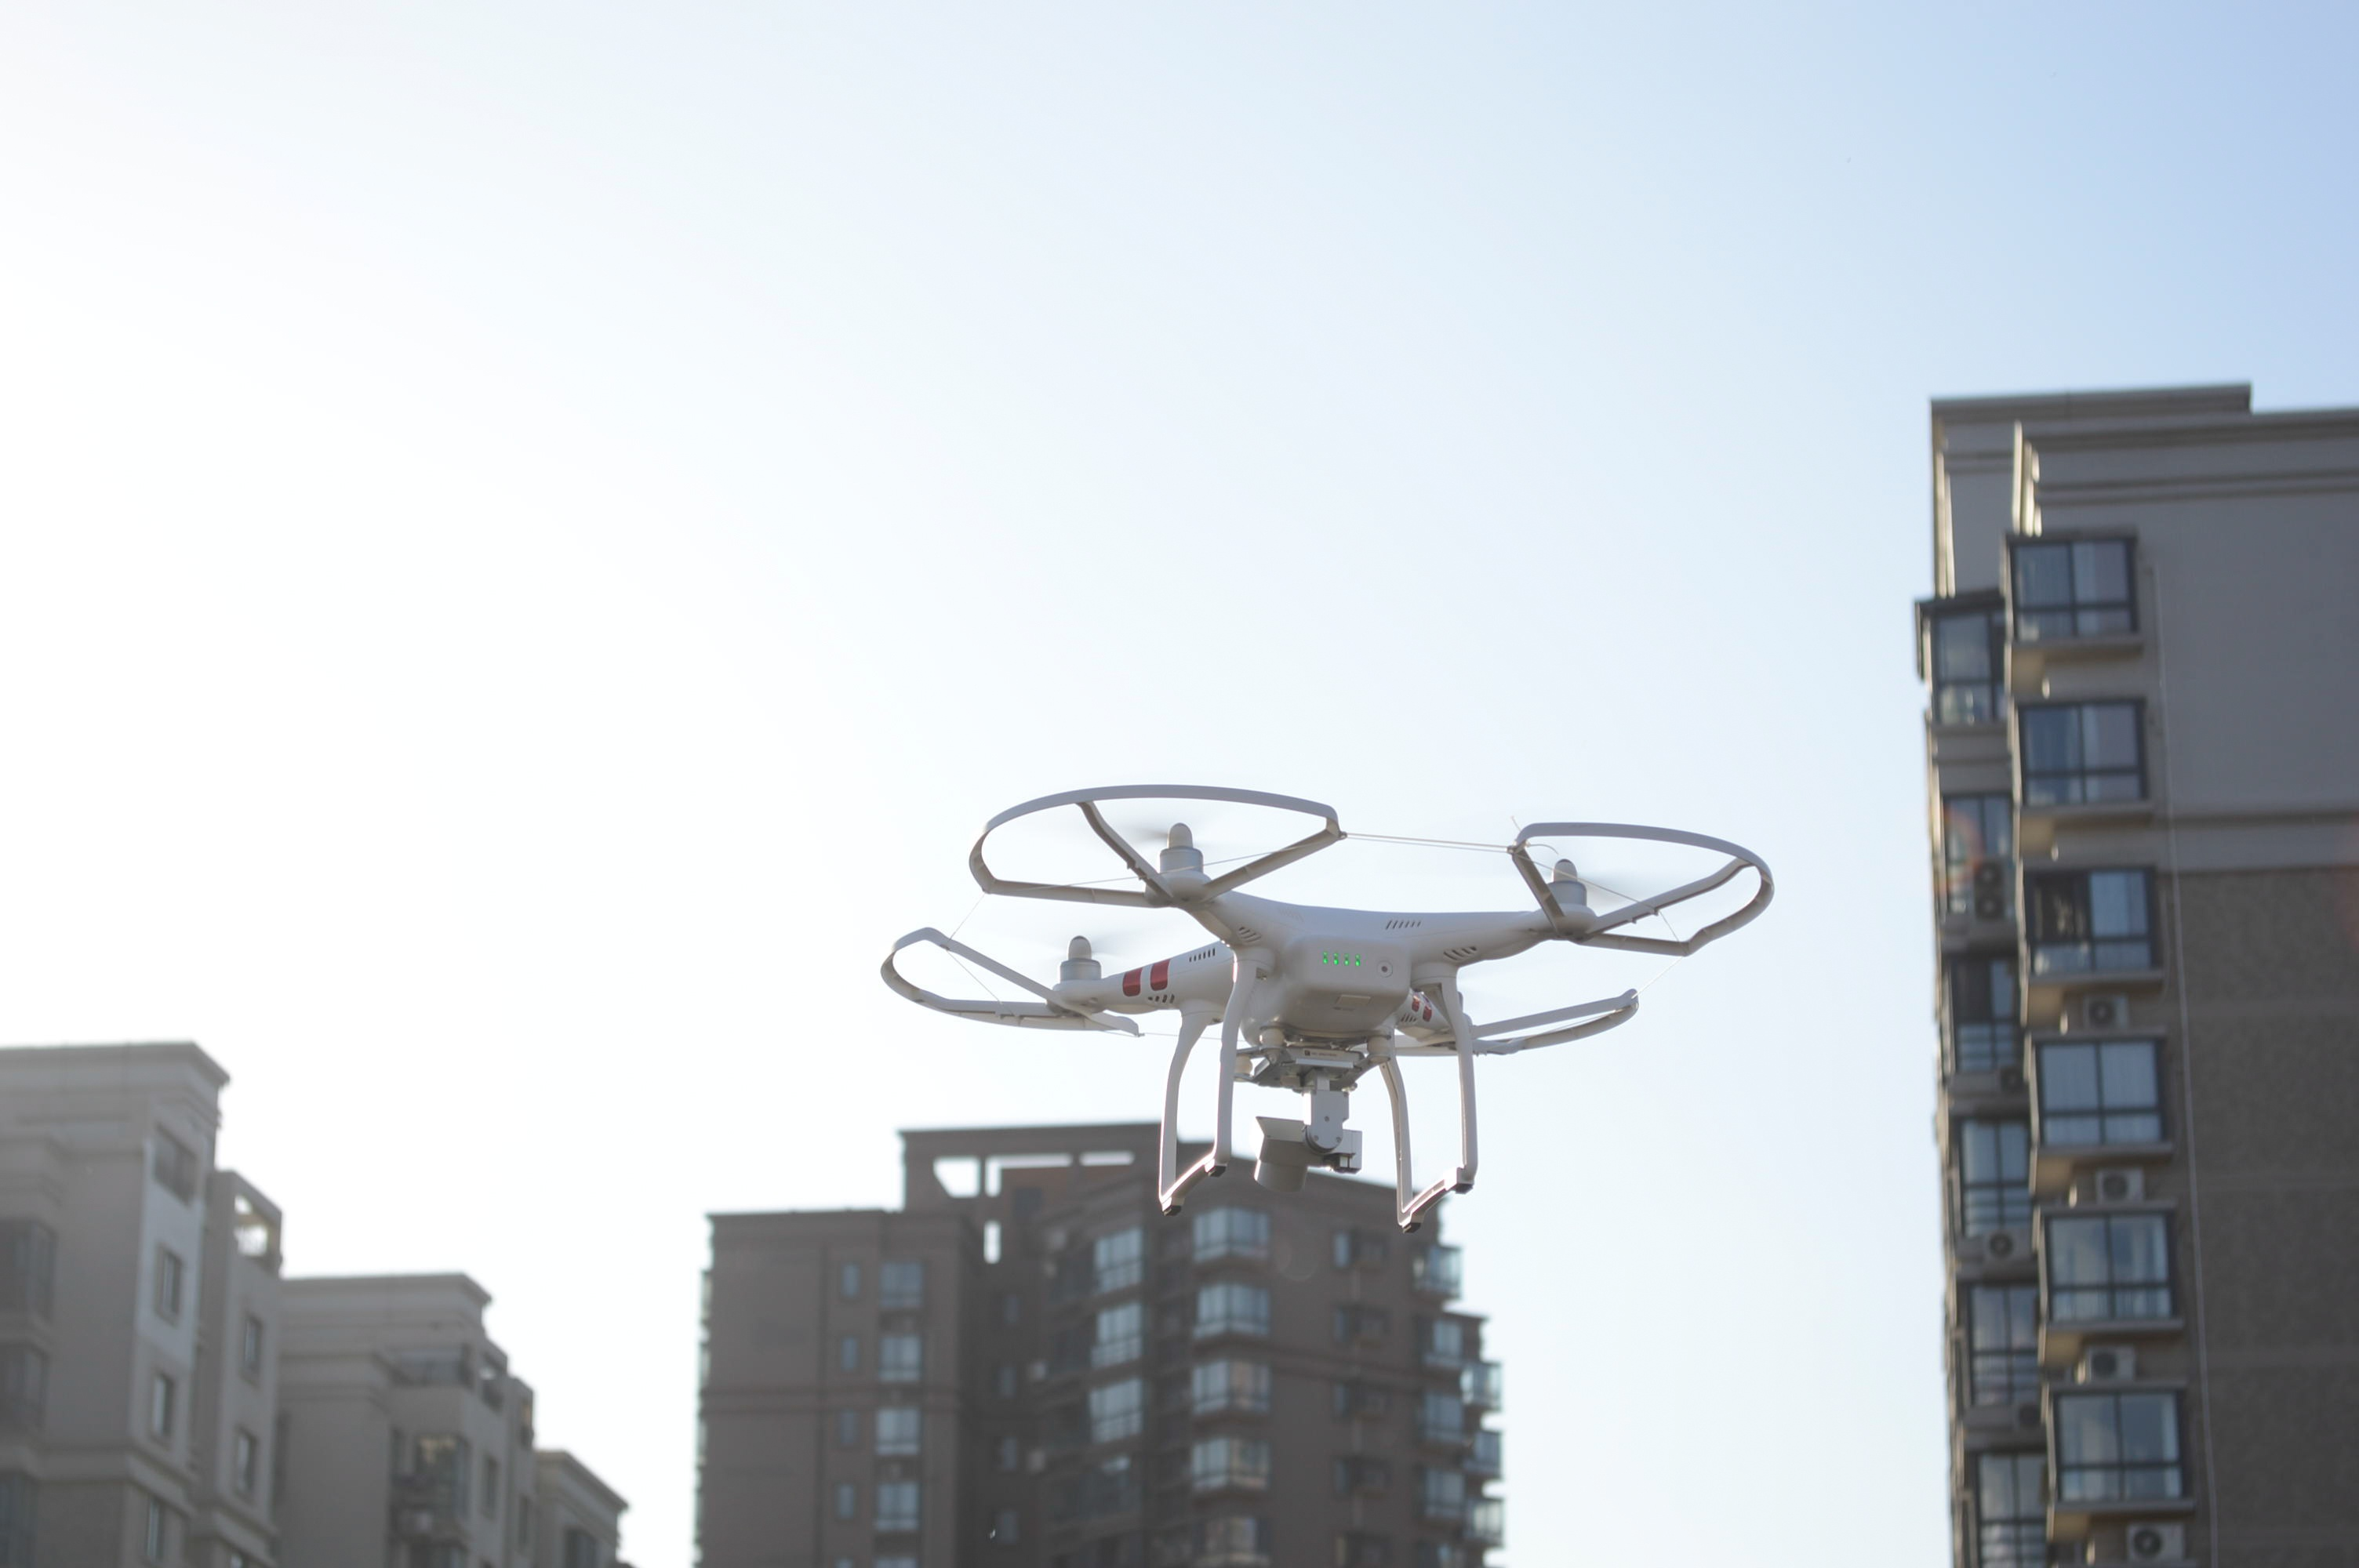DJI: (873, 784, 1780, 1230)
